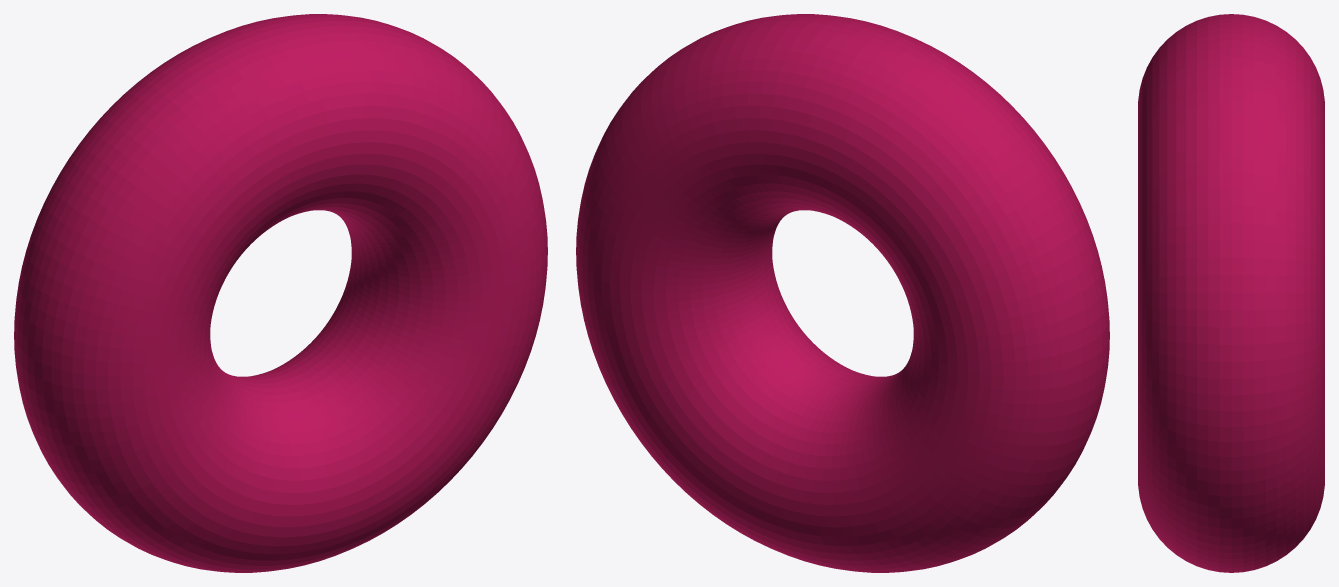
3 renders of one model, left to right at view 1: azimuth 30°, elevation 25°; view 2: azimuth 150°, elevation 25°; view 3: azimuth 270°, elevation 25°, orthographic. The views are drawn at different scales.
Parts seen in each view (by area): view 1: world; view 2: world; view 3: world.
Boxes of the visible parts, x1,y1,x2,y2 form: world: (14, 14, 547, 572); world: (576, 14, 1109, 572); world: (1138, 14, 1324, 572).
Size of the model in its own units: 29.07 by 29.07 by 9.71.
